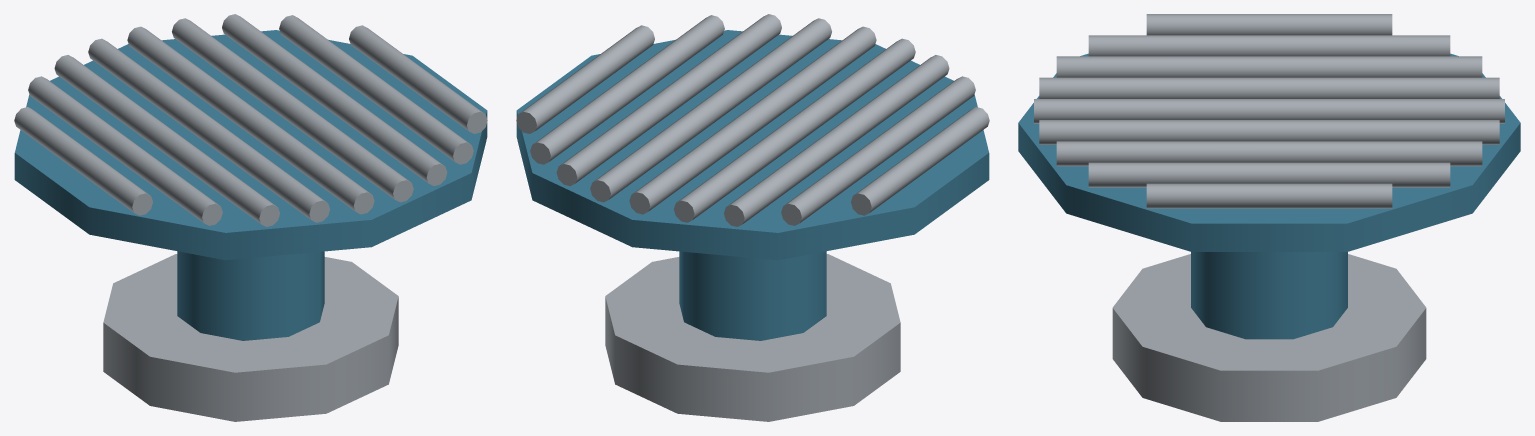
3 renders of one model, left to right at view 1: azimuth 30°, elevation 25°; view 2: azimuth 150°, elevation 25°; view 3: azimuth 270°, elevation 25°, orthographic. The views are drawn at different scales.
Parts seen in each view (by area): view 1: table, base, pedestal, roller4, roller3, roller5, roller2, roller6, roller1, roller7, roller0, roller8; view 2: table, base, pedestal, roller4, roller3, roller5, roller2, roller6, roller1, roller7, roller0, roller8; view 3: base, table, pedestal, roller5, roller3, roller4, roller6, roller2, roller7, roller1, roller8, roller0.
Boxes of the visible parts, x1,y1,x2,y2 form: table: (14, 30, 487, 260); base: (103, 254, 398, 421); pedestal: (177, 251, 324, 340); roller4: (127, 26, 374, 214); roller3: (88, 38, 329, 222); roller5: (172, 18, 413, 202); roller2: (54, 55, 279, 226); roller6: (222, 14, 447, 185); roller1: (28, 76, 222, 225); roller7: (279, 15, 473, 164); roller0: (14, 107, 152, 215); roller8: (349, 25, 487, 133); table: (516, 30, 989, 260); base: (605, 254, 900, 421); pedestal: (679, 251, 826, 340); roller4: (629, 26, 876, 214); roller3: (674, 38, 915, 222); roller5: (590, 18, 831, 202); roller2: (724, 55, 949, 226); roller6: (556, 14, 781, 185); roller1: (781, 76, 975, 225); roller7: (530, 15, 724, 164); roller0: (851, 107, 989, 215); roller8: (516, 25, 654, 133); base: (1112, 254, 1426, 421); table: (1018, 53, 1520, 251); pedestal: (1191, 252, 1347, 339); roller5: (1039, 120, 1499, 144); roller3: (1039, 77, 1499, 98); roller4: (1034, 99, 1504, 123); roller6: (1056, 141, 1482, 166); roller2: (1056, 56, 1482, 77); roller7: (1088, 162, 1450, 187); roller1: (1088, 35, 1450, 56); roller8: (1146, 183, 1392, 208); roller0: (1146, 14, 1392, 35).
Bounding box in the file's own units: 1.52 × 0.908 × 1.6.
